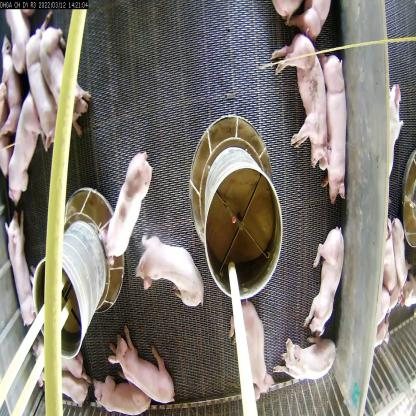Pig: (127, 229, 213, 323), (274, 22, 329, 166), (41, 3, 96, 134), (100, 136, 152, 262), (316, 41, 352, 222), (114, 336, 179, 415), (227, 307, 282, 398), (308, 222, 349, 340), (5, 215, 45, 321), (7, 92, 44, 179), (22, 32, 51, 136), (280, 339, 337, 388), (90, 385, 145, 415)
